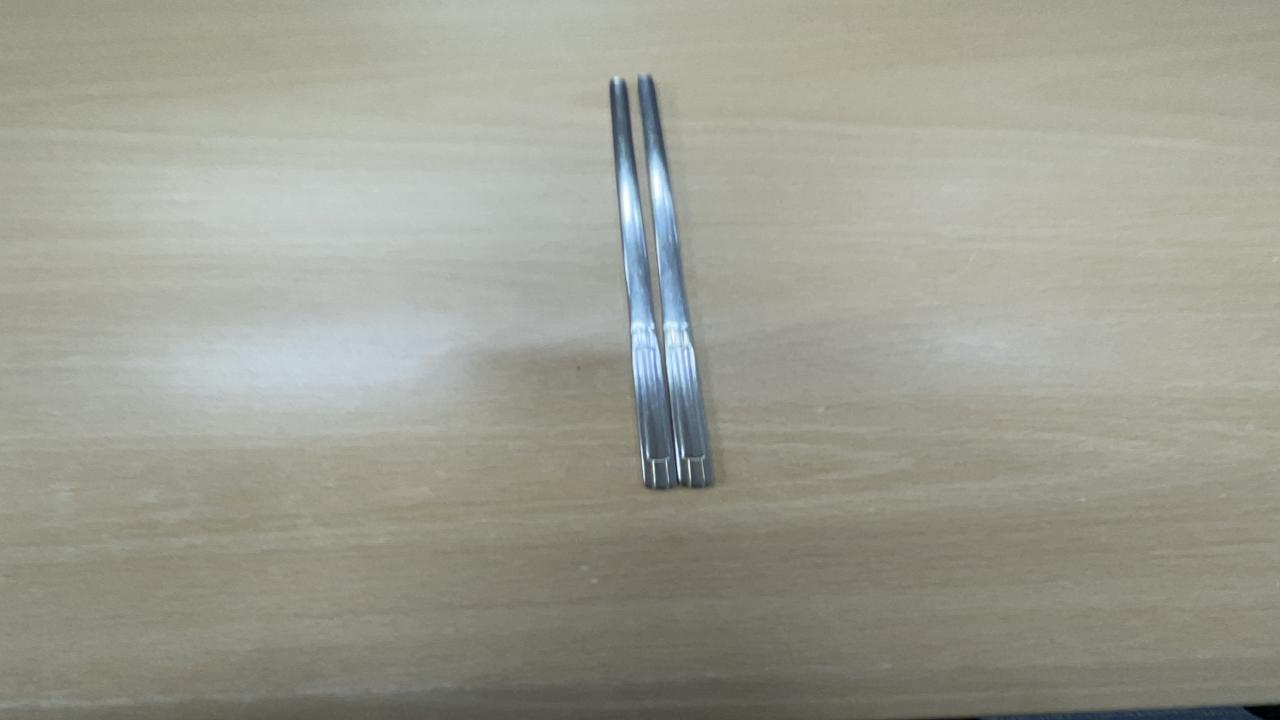chopstick: (606, 71, 718, 488)
